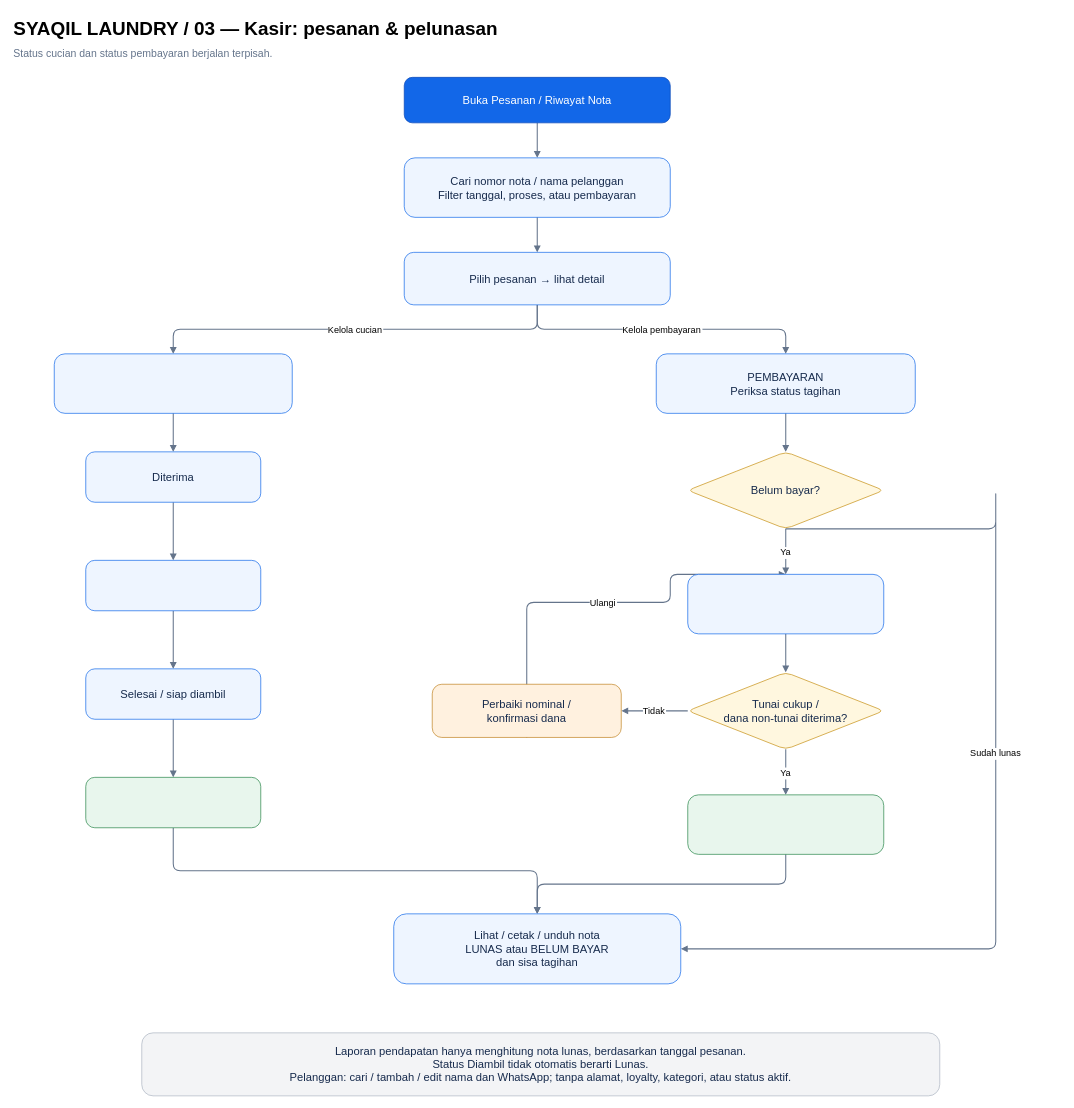
This 1074x1108 diagram has some shape labels left out. Each missing label, with the centre of its shape:
Catat pelunasan Pilih Tunai / QRIS / Transfer: the point at 785,604
Diambil: the point at 173,802
Diproses: the point at 173,585
PROSES CUCIAN Perbarui satu tahap berurutan: the point at 173,383
Simpan pelunasan → LUNAS Nota yang sama diperbarui: the point at 785,824
